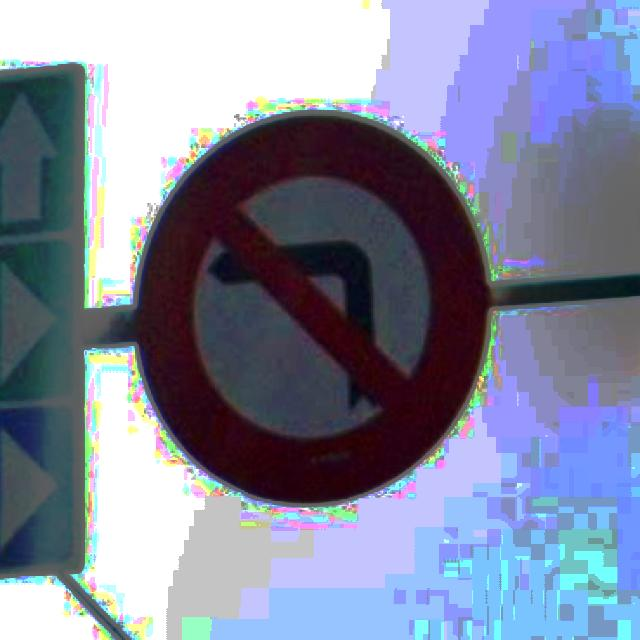noturnleft: (132, 107, 492, 504)
